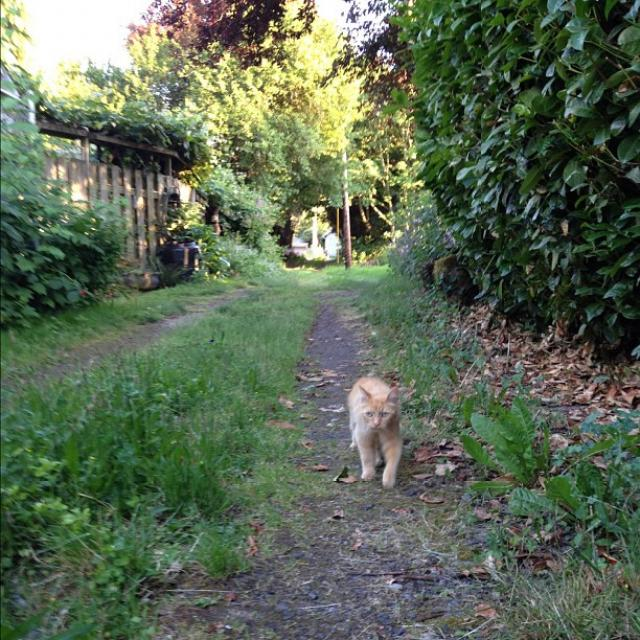cats: (344, 372, 409, 490)
